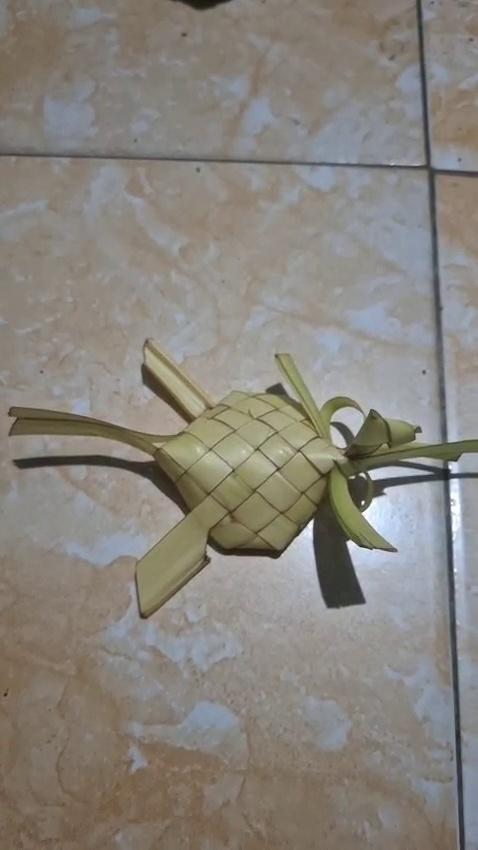Tipat Dampulan: (7, 331, 471, 631)
